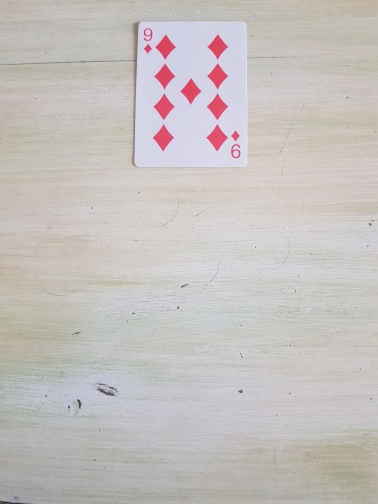nine: (131, 20, 249, 169)
